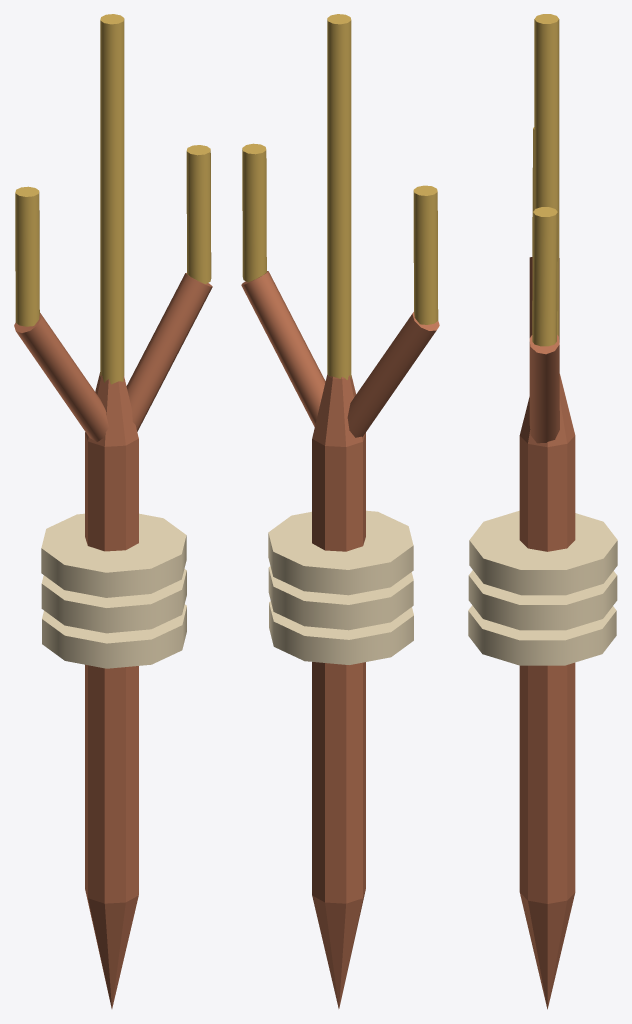
The model's file is lightning_rod_planted.glb.
The picture shows the model from 3 angles, left to right: view 1: azimuth 30°, elevation 25°; view 2: azimuth 150°, elevation 25°; view 3: azimuth 270°, elevation 25°; orthographic projection.
Visible parts, largest first — view 1: _MeshInstance3D_4447, _MeshInstance3D_4455, _MeshInstance3D_4450, _MeshInstance3D_4449, _MeshInstance3D_4448, _MeshInstance3D_4453, _MeshInstance3D_4451, _MeshInstance3D_4452, _MeshInstance3D_4454; view 2: _MeshInstance3D_4447, _MeshInstance3D_4455, _MeshInstance3D_4450, _MeshInstance3D_4449, _MeshInstance3D_4448, _MeshInstance3D_4453, _MeshInstance3D_4451, _MeshInstance3D_4452, _MeshInstance3D_4454; view 3: _MeshInstance3D_4447, _MeshInstance3D_4450, _MeshInstance3D_4455, _MeshInstance3D_4449, _MeshInstance3D_4448, _MeshInstance3D_4454, _MeshInstance3D_4453, _MeshInstance3D_4451.
Part boxes in pixels (x1,y1,x2,y2): _MeshInstance3D_4447: [85, 372, 138, 1008]; _MeshInstance3D_4455: [100, 14, 124, 384]; _MeshInstance3D_4450: [41, 513, 186, 597]; _MeshInstance3D_4449: [41, 569, 186, 633]; _MeshInstance3D_4448: [42, 604, 186, 668]; _MeshInstance3D_4453: [126, 273, 212, 431]; _MeshInstance3D_4451: [14, 313, 108, 441]; _MeshInstance3D_4452: [15, 186, 39, 326]; _MeshInstance3D_4454: [186, 145, 211, 284]; _MeshInstance3D_4447: [312, 373, 365, 1008]; _MeshInstance3D_4455: [327, 14, 351, 379]; _MeshInstance3D_4450: [268, 510, 413, 595]; _MeshInstance3D_4449: [268, 566, 413, 630]; _MeshInstance3D_4448: [269, 601, 413, 664]; _MeshInstance3D_4453: [241, 271, 325, 426]; _MeshInstance3D_4451: [347, 312, 439, 437]; _MeshInstance3D_4452: [413, 185, 438, 324]; _MeshInstance3D_4454: [242, 143, 266, 282]; _MeshInstance3D_4447: [519, 374, 575, 1009]; _MeshInstance3D_4450: [469, 510, 617, 595]; _MeshInstance3D_4455: [534, 14, 559, 339]; _MeshInstance3D_4449: [468, 570, 617, 630]; _MeshInstance3D_4448: [468, 605, 616, 665]; _MeshInstance3D_4454: [532, 207, 557, 346]; _MeshInstance3D_4453: [529, 335, 559, 443]; _MeshInstance3D_4451: [529, 257, 559, 342].
Size of the model in its own units: 0.1449 by 0.7073 by 0.0968.
